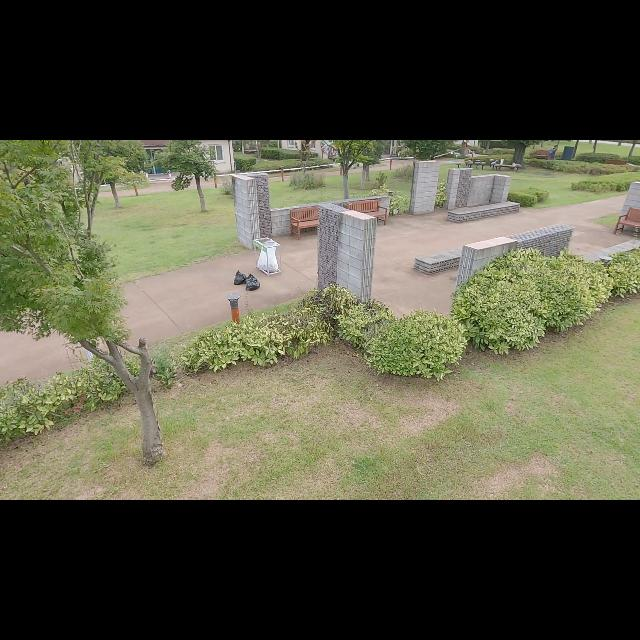trash: (245, 276, 261, 292), (233, 269, 247, 285), (244, 269, 258, 285)
